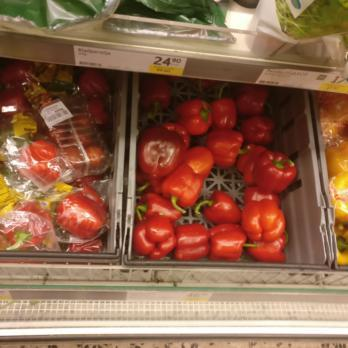Capsicum: (138, 93, 299, 265)
